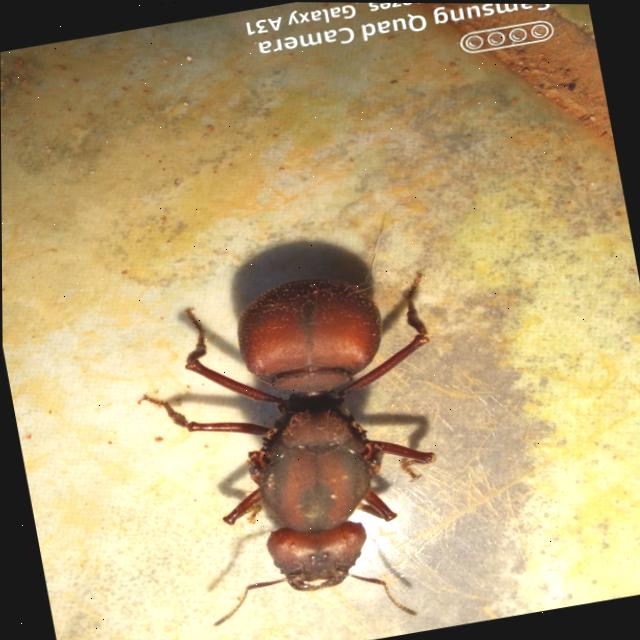Alive-Female-Dealate: (118, 255, 485, 640)
